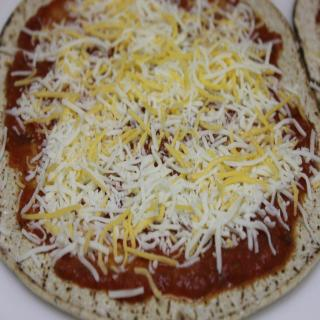Cheese: (1, 0, 320, 319)
Pizza: (0, 0, 320, 320)
